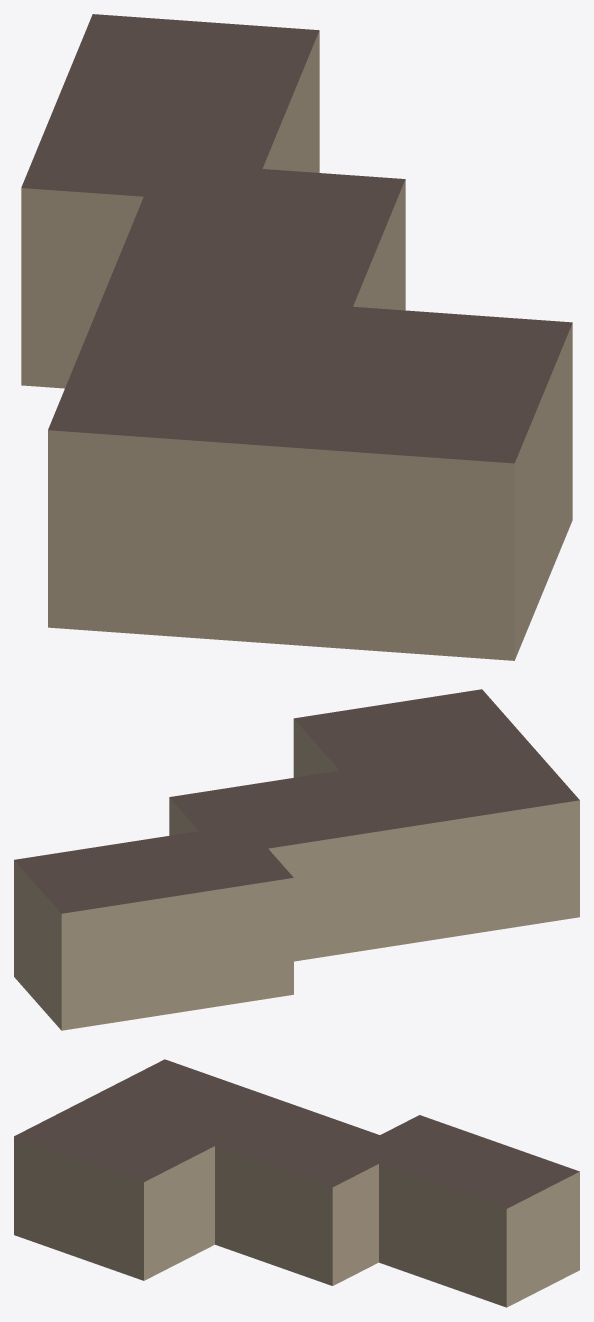
3 views of the same model, one above another, from view 1: azimuth 30°, elevation 25°; view 2: azimuth 150°, elevation 25°; view 3: azimuth 270°, elevation 25° (orthographic). The views are drawn at different scales.
Visible parts, largest first — view 1: HP-w859488845; view 2: HP-w859488845; view 3: HP-w859488845.
Boxes of the visible parts, left/top/right/bottom form: HP-w859488845: left=21, top=14, right=572, bottom=660; HP-w859488845: left=14, top=689, right=579, bottom=1030; HP-w859488845: left=14, top=1059, right=579, bottom=1307.
Bounding box in the file's own units: 29.27 × 9 × 46.77.
